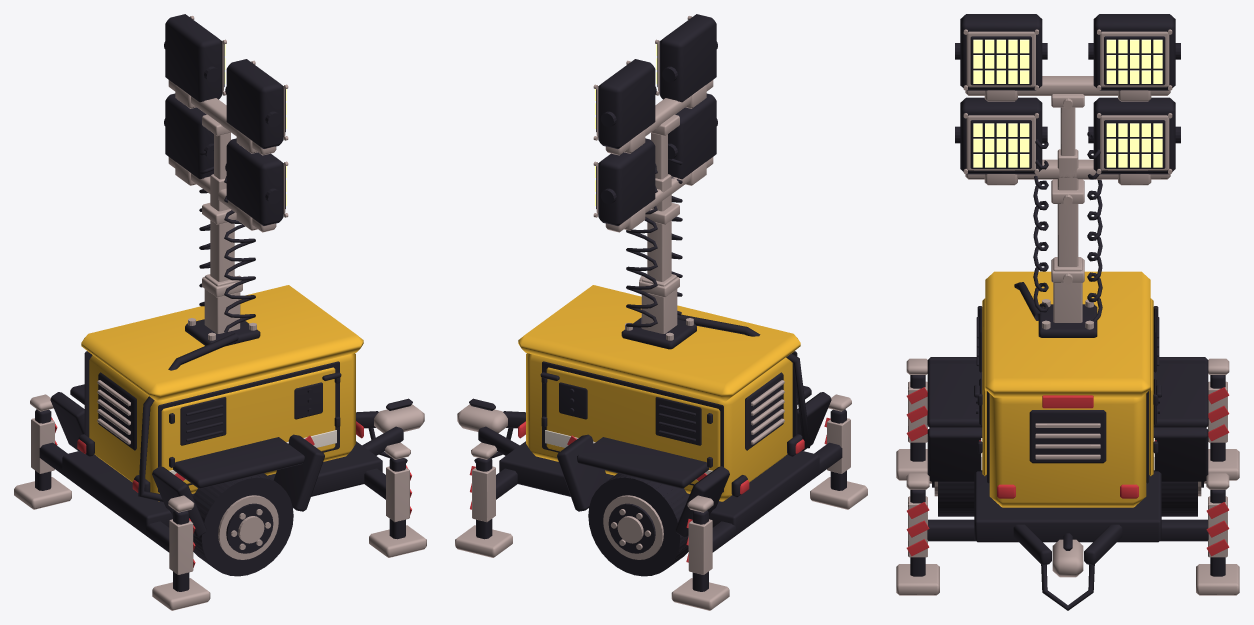
3 renders of one model, left to right at view 1: azimuth 30°, elevation 25°; view 2: azimuth 150°, elevation 25°; view 3: azimuth 270°, elevation 25°, orthographic. The views are drawn at different scales.
Parts seen in each view (by area): view 1: static_pal_uiDark, body, static_pal_sidewalk, doorL_pal_schoolBusYellow, mast_pal_sidewalk, wheelL_pal_uiDark, lamp1_L_pal_uiDark, lamp1_R_pal_uiDark, lamp0_L_pal_uiDark, doorL_pal_uiDark, lamp0_R_pal_uiDark, wheelL_pal_sidewalk (+1 smaller); view 2: static_pal_uiDark, body, static_pal_sidewalk, doorR_pal_schoolBusYellow, mast_pal_sidewalk, wheelR_pal_uiDark, lamp1_R_pal_uiDark, lamp1_L_pal_uiDark, lamp0_R_pal_uiDark, doorR_pal_uiDark, lamp0_L_pal_uiDark, wheelR_pal_sidewalk (+1 smaller); view 3: static_pal_uiDark, body, static_pal_sidewalk, mast_pal_sidewalk, lamp1_L_pal_uiDark, lamp1_R_pal_uiDark, lamp0_R_pal_uiDark, static_pal_survivorRed, lamp0_L_pal_uiDark, mast_pal_uiDark, lamp0_L_emi_windowGlow, lamp0_R_emi_windowGlow (+12 smaller).
Boxes of the visible parts, x1,y1,x2,y2 form: static_pal_uiDark: (35, 318, 412, 591); body: (81, 285, 363, 501); static_pal_sidewalk: (14, 318, 426, 610); doorL_pal_schoolBusYellow: (161, 367, 335, 484); mast_pal_sidewalk: (168, 80, 276, 333); wheelL_pal_uiDark: (193, 473, 293, 576); lamp1_L_pal_uiDark: (225, 59, 285, 148); lamp1_R_pal_uiDark: (164, 14, 224, 102); lamp0_L_pal_uiDark: (225, 138, 285, 225); doorL_pal_uiDark: (169, 372, 341, 467); lamp0_R_pal_uiDark: (164, 93, 213, 179); wheelL_pal_sidewalk: (218, 495, 278, 559); static_pal_uiDark: (469, 314, 846, 591); body: (518, 285, 800, 501); static_pal_sidewalk: (455, 318, 867, 610); doorR_pal_schoolBusYellow: (546, 367, 720, 484); mast_pal_sidewalk: (605, 80, 713, 333); wheelR_pal_uiDark: (588, 473, 688, 576); lamp1_R_pal_uiDark: (596, 59, 656, 148); lamp1_L_pal_uiDark: (657, 14, 717, 102); lamp0_R_pal_uiDark: (596, 138, 656, 225); doorR_pal_uiDark: (540, 372, 712, 467); lamp0_L_pal_uiDark: (668, 93, 717, 179); wheelR_pal_sidewalk: (603, 495, 663, 559); static_pal_uiDark: (910, 282, 1225, 610); body: (985, 271, 1150, 507); static_pal_sidewalk: (896, 299, 1239, 595); mast_pal_sidewalk: (965, 76, 1170, 322); lamp1_L_pal_uiDark: (955, 14, 1047, 90); lamp1_R_pal_uiDark: (1088, 14, 1180, 90); lamp0_R_pal_uiDark: (1088, 97, 1180, 174); static_pal_survivorRed: (906, 387, 1229, 556); lamp0_L_pal_uiDark: (955, 97, 1047, 174); mast_pal_uiDark: (1033, 132, 1102, 321); lamp0_L_emi_windowGlow: (973, 123, 1029, 167); lamp0_R_emi_windowGlow: (1106, 123, 1162, 167).
Size of the model in its own units: 3.22 by 4.41 by 2.68.
